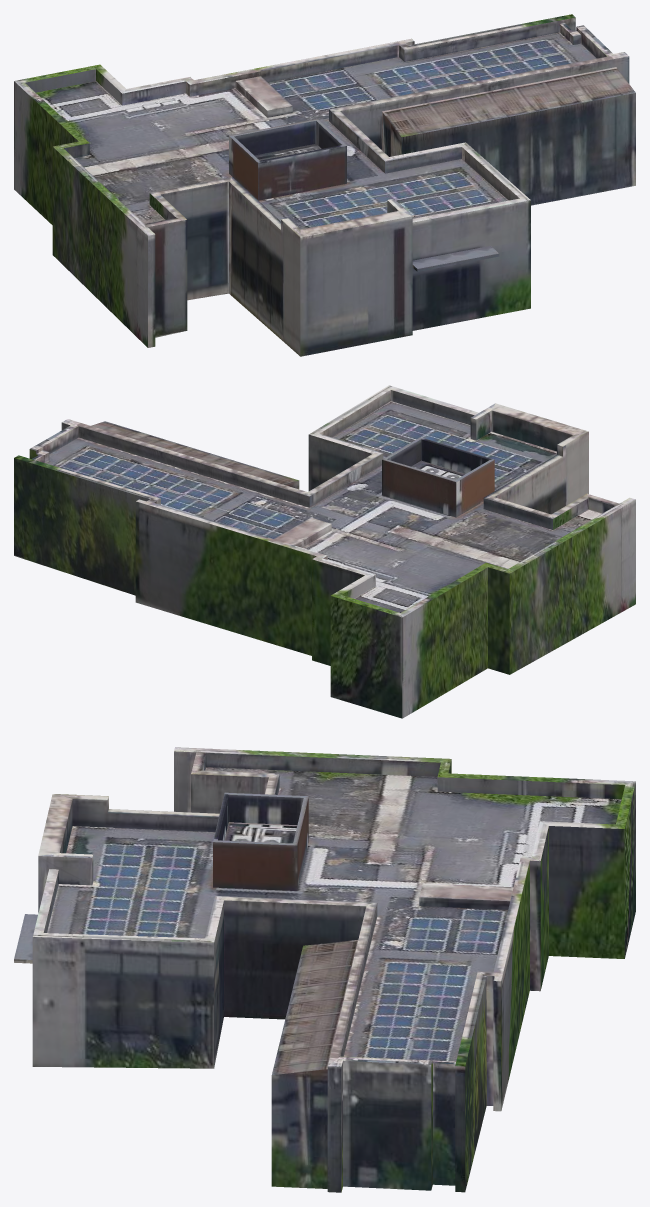
3 renders of one model, top to bottom at view 1: azimuth 30°, elevation 25°; view 2: azimuth 150°, elevation 25°; view 3: azimuth 270°, elevation 25°, orthographic. The views are drawn at different scales.
Visible parts, largest first — view 1: B286564032801062A0; view 2: B286564032801062A0; view 3: B286564032801062A0.
Boxes of the visible parts, <box> form: B286564032801062A0: <box>14,14,635,356</box>; B286564032801062A0: <box>14,385,635,718</box>; B286564032801062A0: <box>14,747,635,1192</box>.
Size of the model in its own units: 31.74 by 7.68 by 26.1.
Materials: 1 (1 with a texture image).
